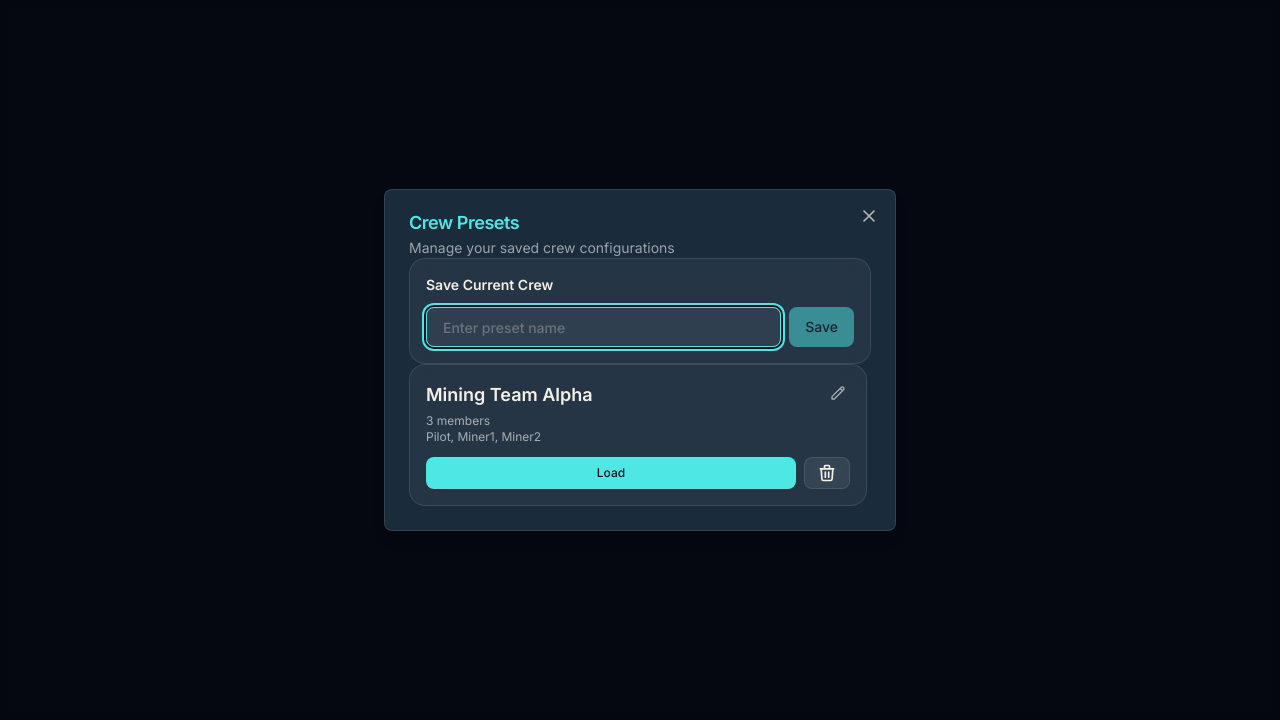
Test case: CrewPresetManager - Delete Preset › should cancel deletion when cancel button is clicked
# Click delete button
Click the button named "delete preset" at (827,473), box [804,457,850,489]
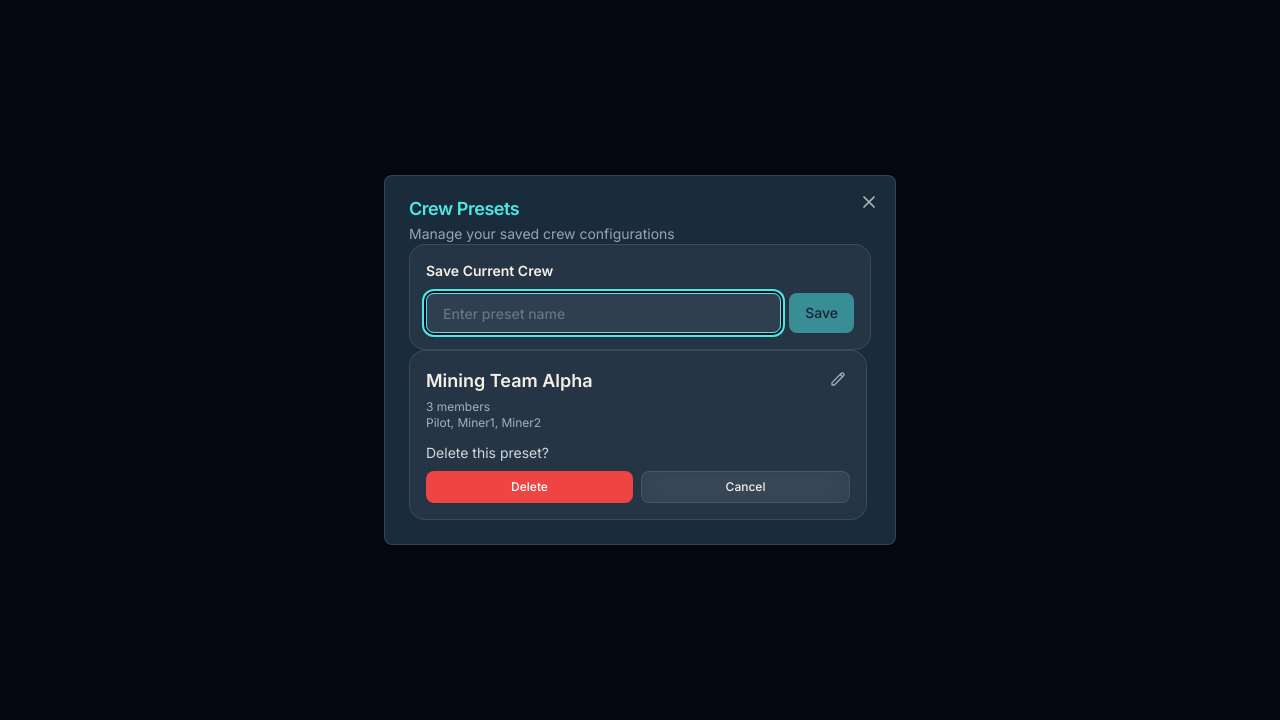
# Click cancel
Click the button "Cancel" at (746,487), box [641,471,850,503]
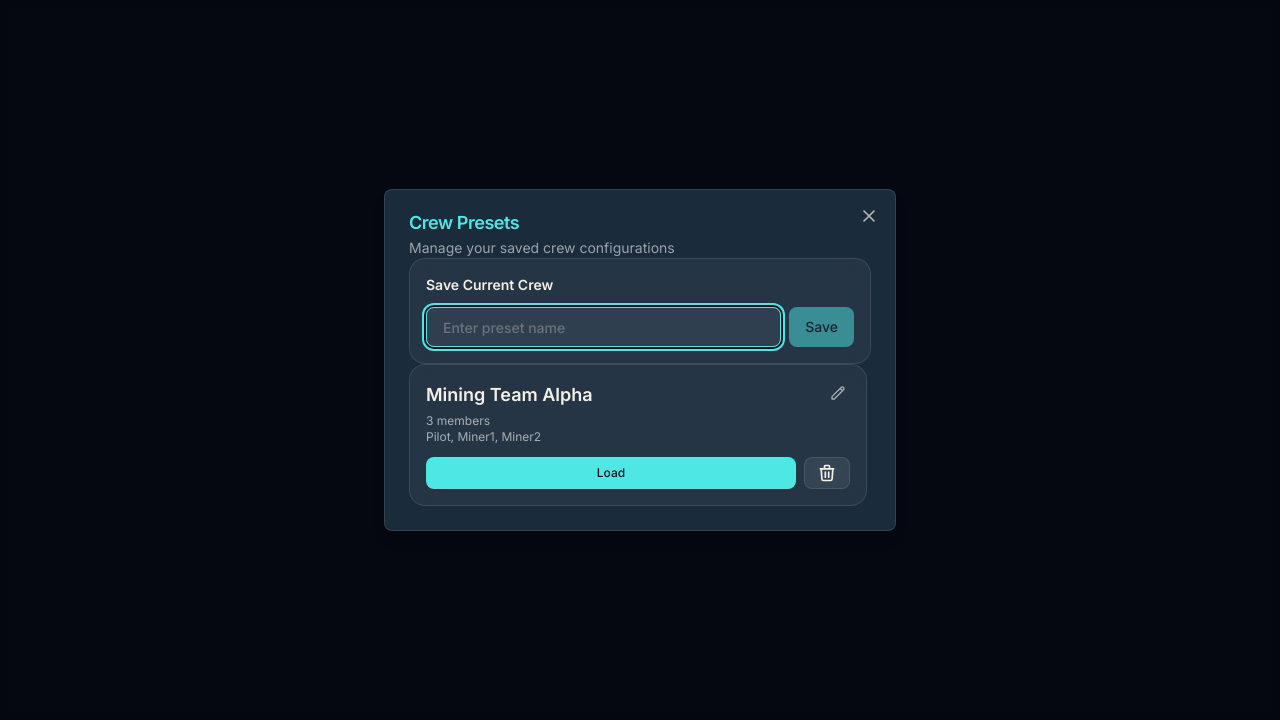
Expected: the heading "Mining Team Alpha" is shown, [426,381,593,409]
Expected: the button "Load" is shown, [426,457,796,489]
